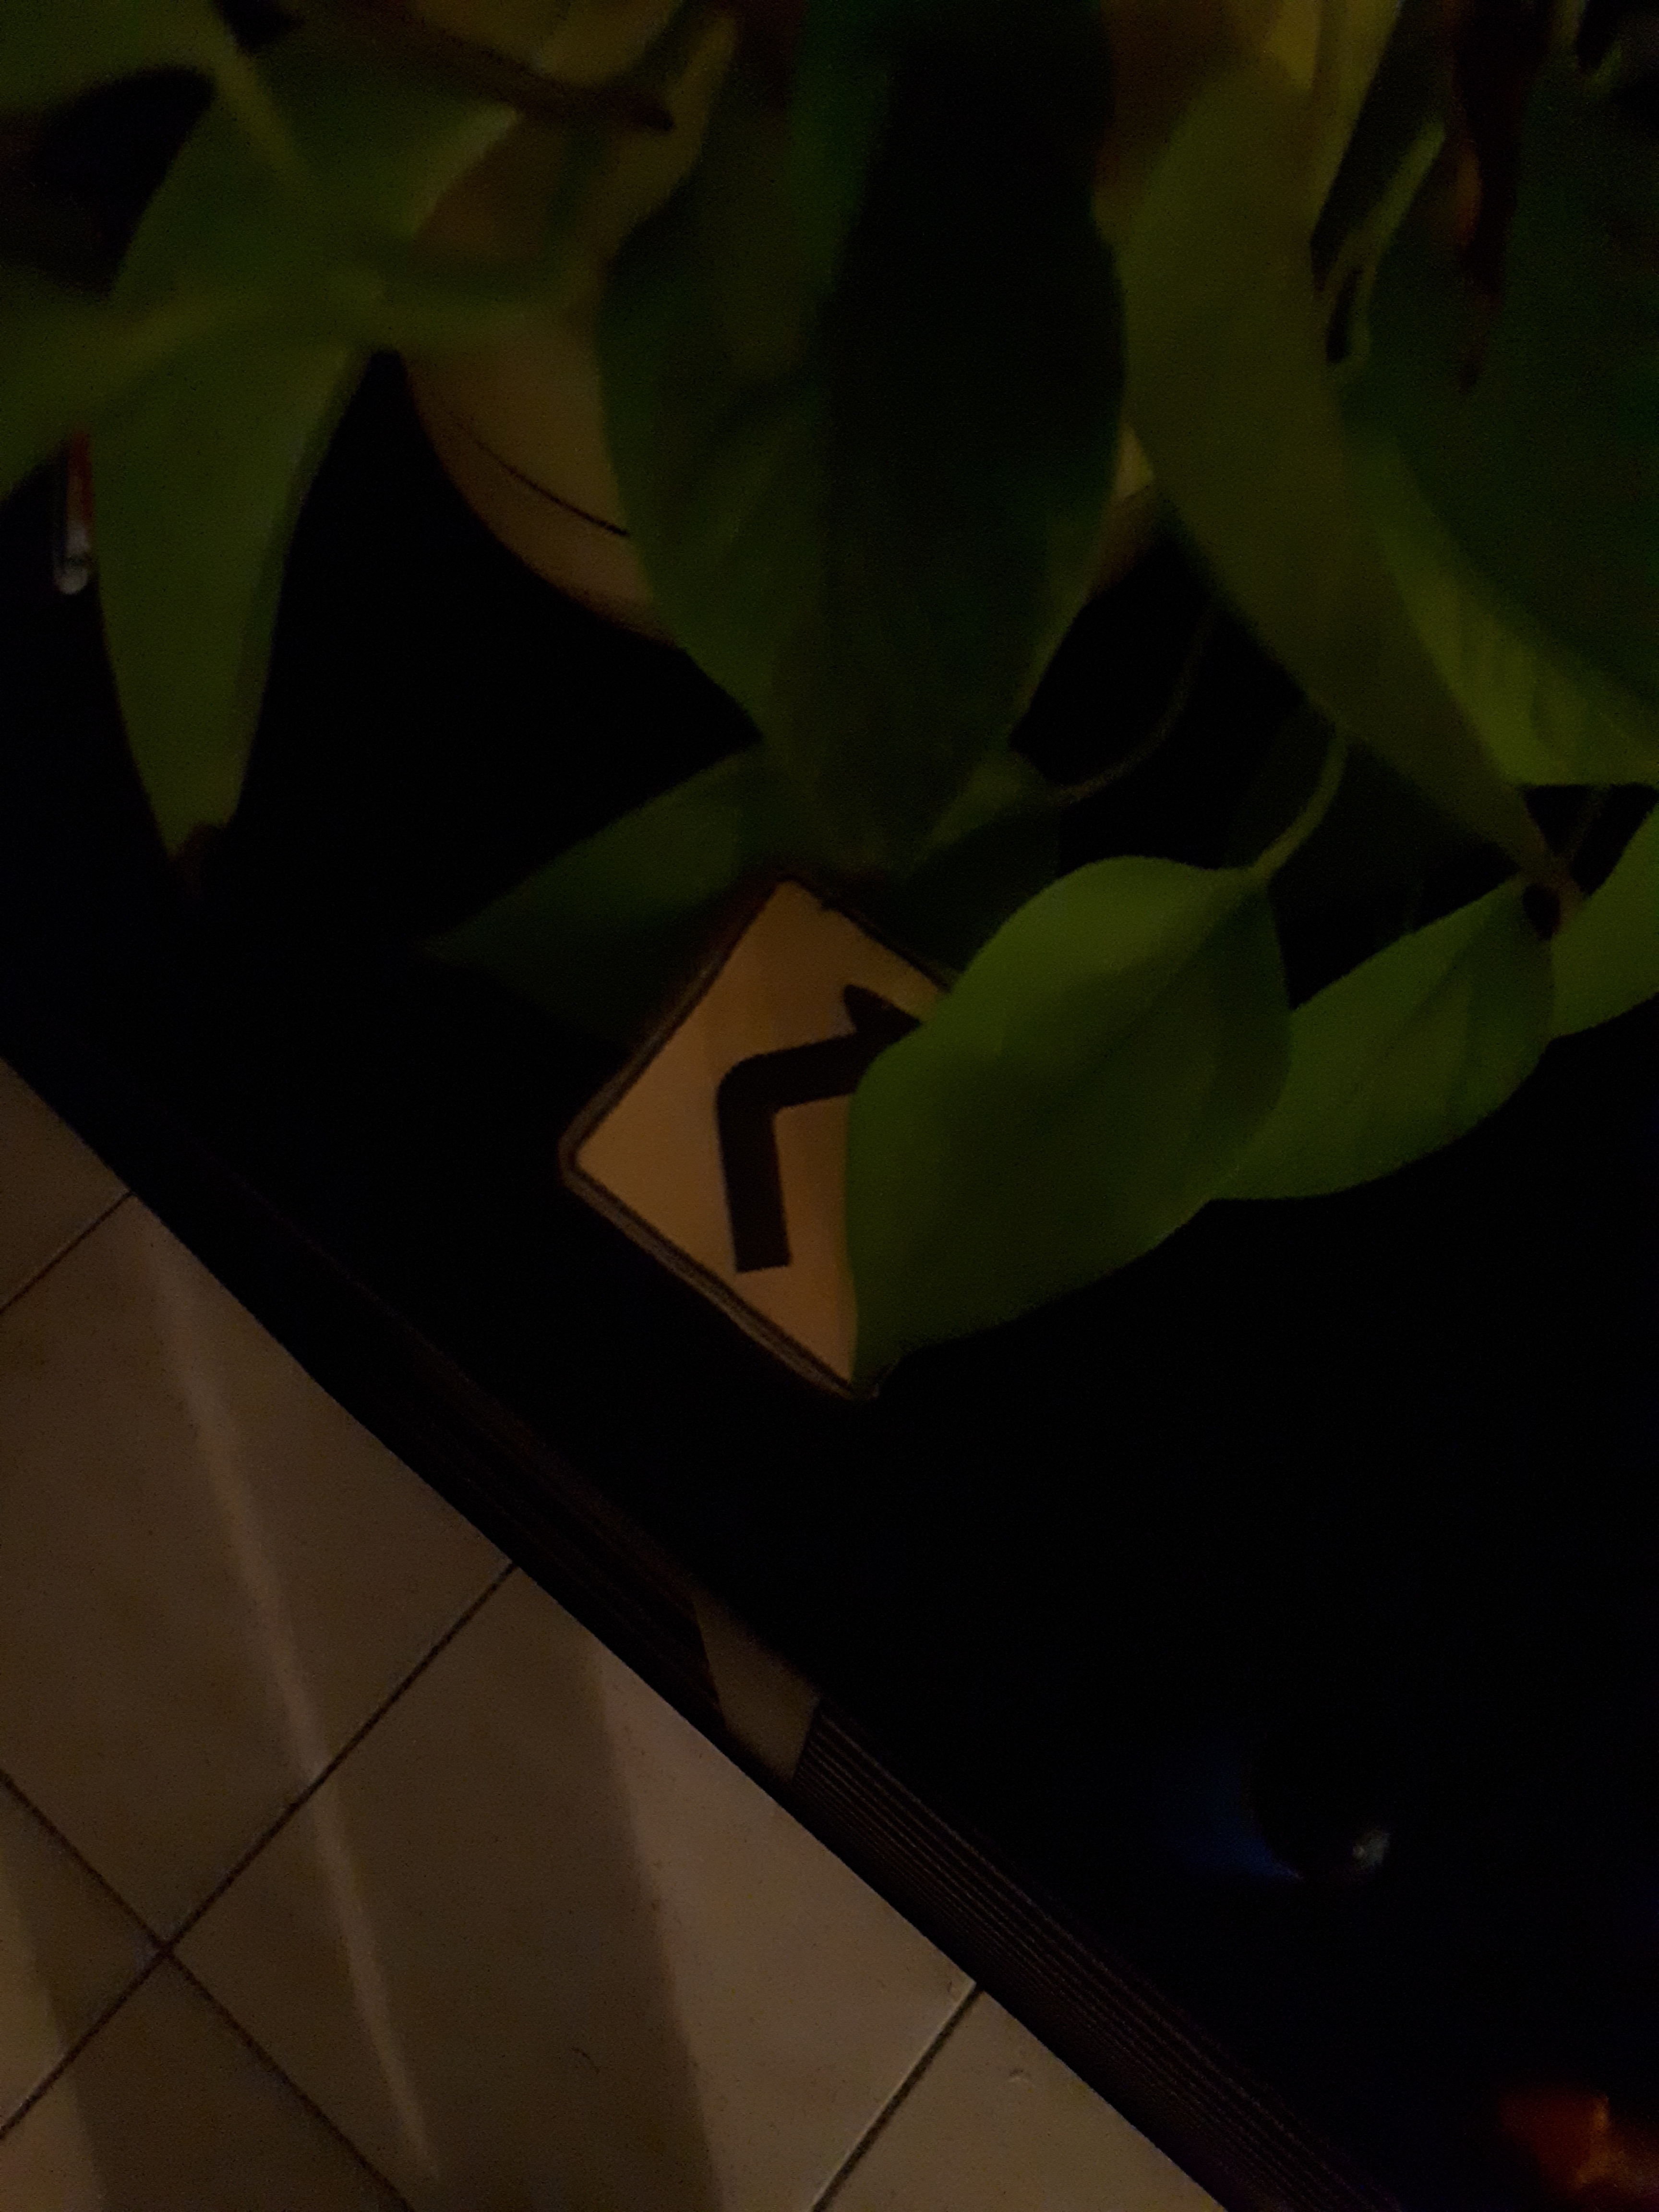right: (533, 857, 1028, 1411), (603, 953, 978, 1341)
